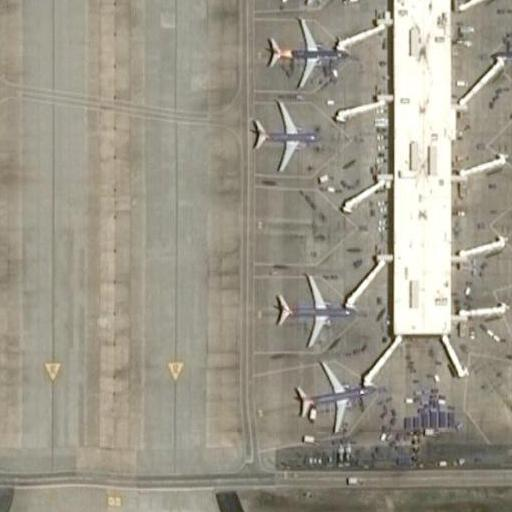Aircraft: (267, 274, 369, 350), (260, 16, 353, 90), (243, 98, 330, 175), (284, 360, 385, 422), (486, 9, 512, 93), (270, 0, 353, 7)
